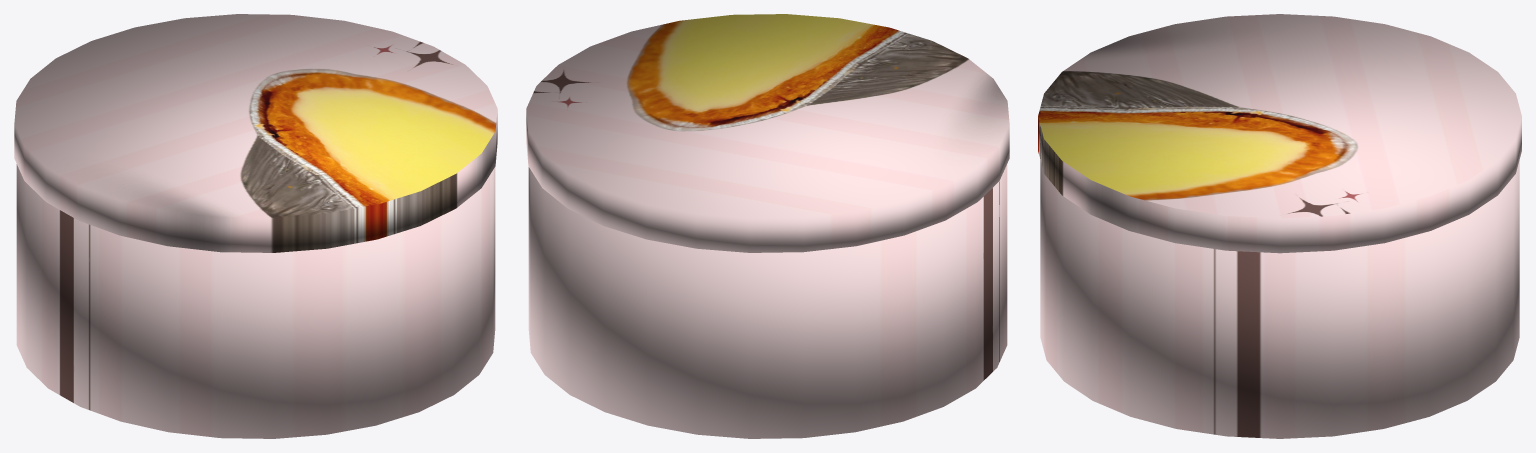
File: prop_lemon_tart.glb
The picture shows the model from 3 angles, left to right: view 1: azimuth 30°, elevation 25°; view 2: azimuth 150°, elevation 25°; view 3: azimuth 270°, elevation 25°; orthographic projection.
Visible parts, largest first — view 1: prop_lemon_tart; view 2: prop_lemon_tart; view 3: prop_lemon_tart.
Boxes of the visible parts, left/top/right/bottom form: prop_lemon_tart: left=14, top=14, right=497, bottom=438; prop_lemon_tart: left=526, top=14, right=1009, bottom=438; prop_lemon_tart: left=1038, top=14, right=1521, bottom=438.
Size of the model in its own units: 0.101 by 0.051 by 0.101.
Materials: 1 (1 with a texture image).
